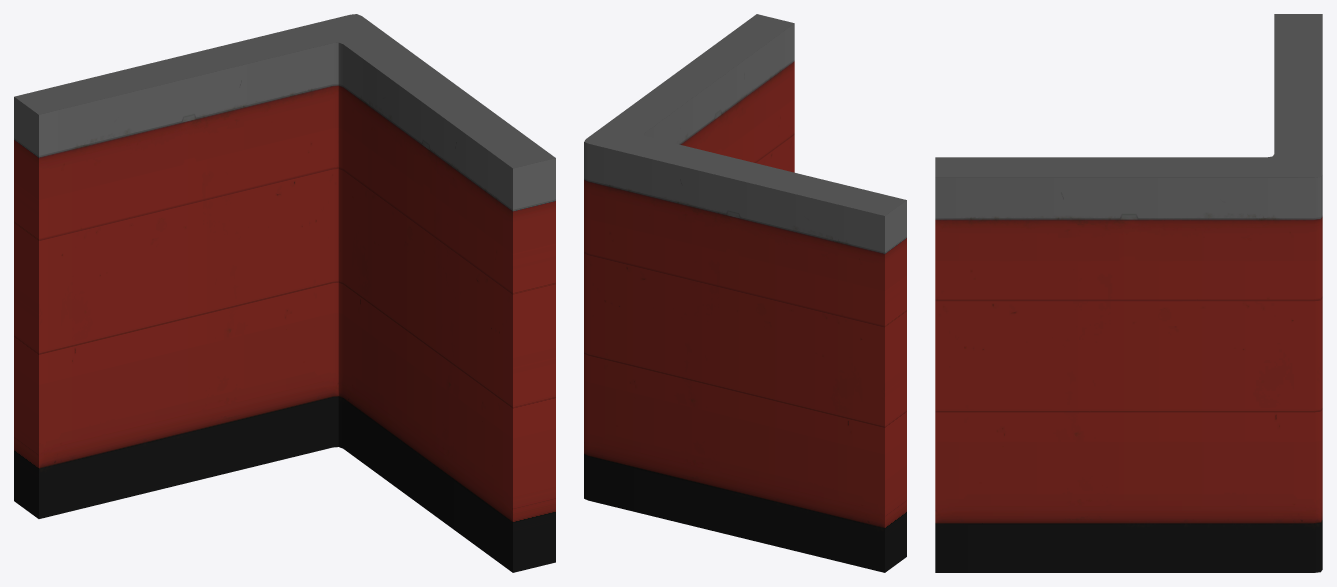
File: RedWall02_Tile_Border_Out.dae
3 renders of one model, left to right at view 1: azimuth 30°, elevation 25°; view 2: azimuth 150°, elevation 25°; view 3: azimuth 270°, elevation 25°, orthographic. The views are drawn at different scales.
Visible parts, largest first — view 1: polySurface7; view 2: polySurface7; view 3: polySurface7.
Boxes of the visible parts, <box> form: polySurface7: <box>14,14,555,572</box>; polySurface7: <box>584,14,906,572</box>; polySurface7: <box>935,14,1322,572</box>.
Size of the model in its own units: 4 by 4.5 by 4.
Materials: 1 (1 with a texture image).
